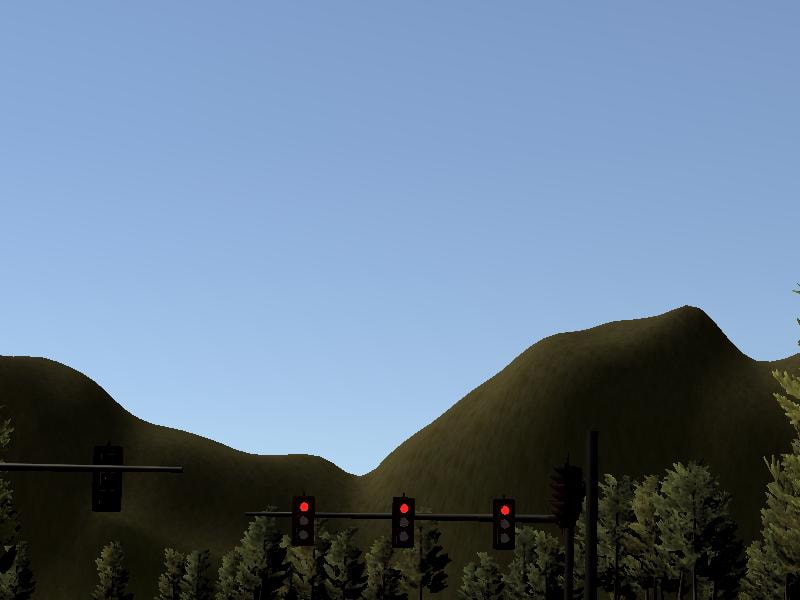red: (291, 496, 314, 546), (391, 496, 414, 546), (491, 499, 514, 549)
